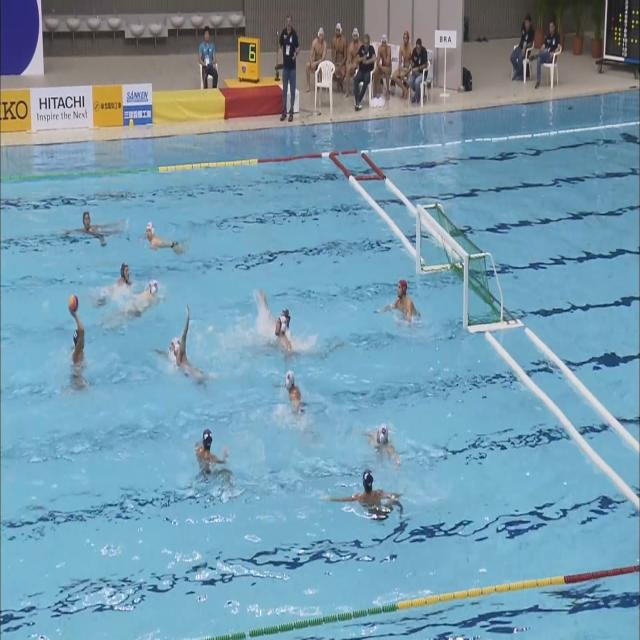ball: (69, 294, 78, 312)
